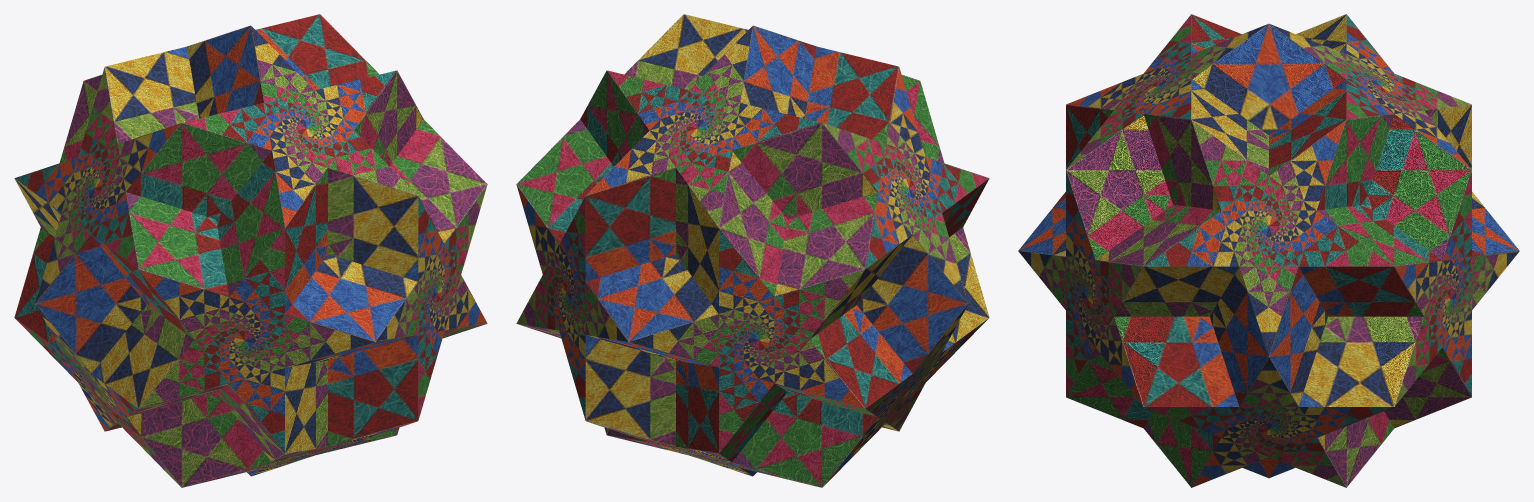
Rendered from Dodecadodecahedron6.obj.
3 views of the same model, side by side, from view 1: azimuth 30°, elevation 25°; view 2: azimuth 150°, elevation 25°; view 3: azimuth 270°, elevation 25° (orthographic).
Size of the model in its own units: 2 by 2 by 2.
1 material, 1 textured.
